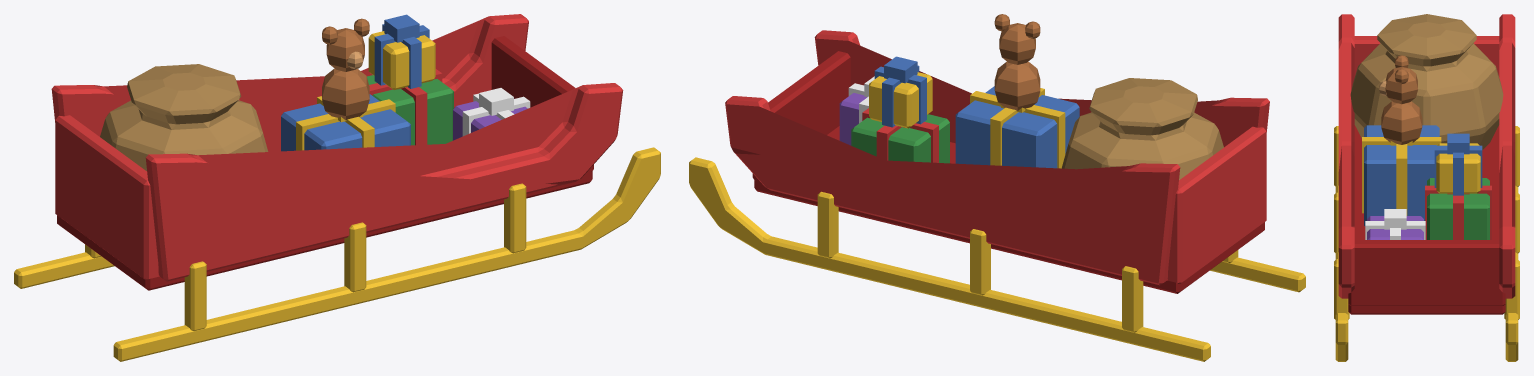
Rendered from sleigh-2x1.glb.
3 views of the same model, side by side, from view 1: azimuth 30°, elevation 25°; view 2: azimuth 150°, elevation 25°; view 3: azimuth 270°, elevation 25° (orthographic). The views are drawn at different scales.
Parts seen in each view (by area): view 1: sleigh-2x1; view 2: sleigh-2x1; view 3: sleigh-2x1.
Part boxes in pixels (x1,y1,x2,y2): sleigh-2x1: (14,14,660,361); sleigh-2x1: (689,14,1305,361); sleigh-2x1: (1334,14,1519,361).
Bounding box in the file's own units: 2 × 0.8706 × 0.6941.
1 material, 1 textured.
